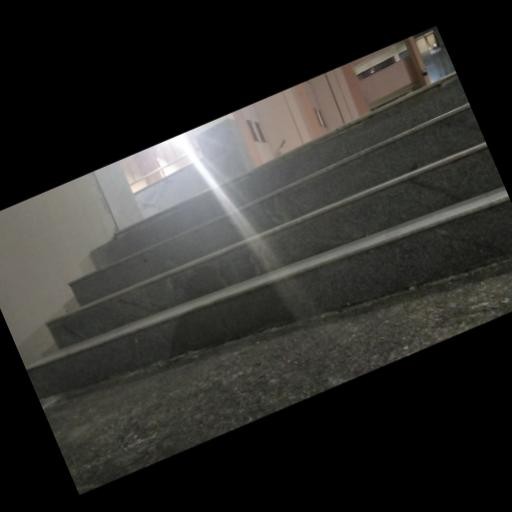stairs: (27, 76, 511, 398)
